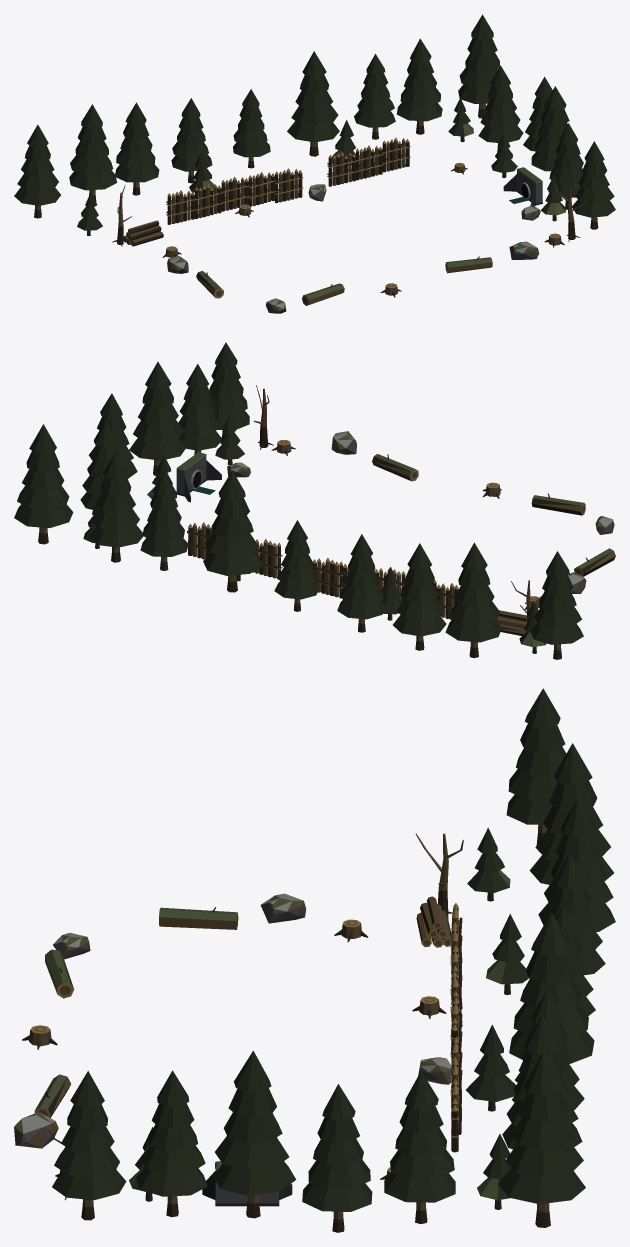
The model's file is hushwood_clearing.glb.
The picture shows the model from 3 angles, top to bottom: view 1: azimuth 30°, elevation 25°; view 2: azimuth 150°, elevation 25°; view 3: azimuth 270°, elevation 25°; orthographic projection. The views are drawn at different scales.
Parts seen in each view (by area): view 1: hushwood_clearing; view 2: hushwood_clearing; view 3: hushwood_clearing.
Part boxes in pixels (x1,y1,x2,y2): hushwood_clearing: [14, 14, 615, 313]; hushwood_clearing: [14, 342, 615, 659]; hushwood_clearing: [14, 688, 615, 1232].
Size of the model in its own units: 39 by 8.78 by 24.74.
